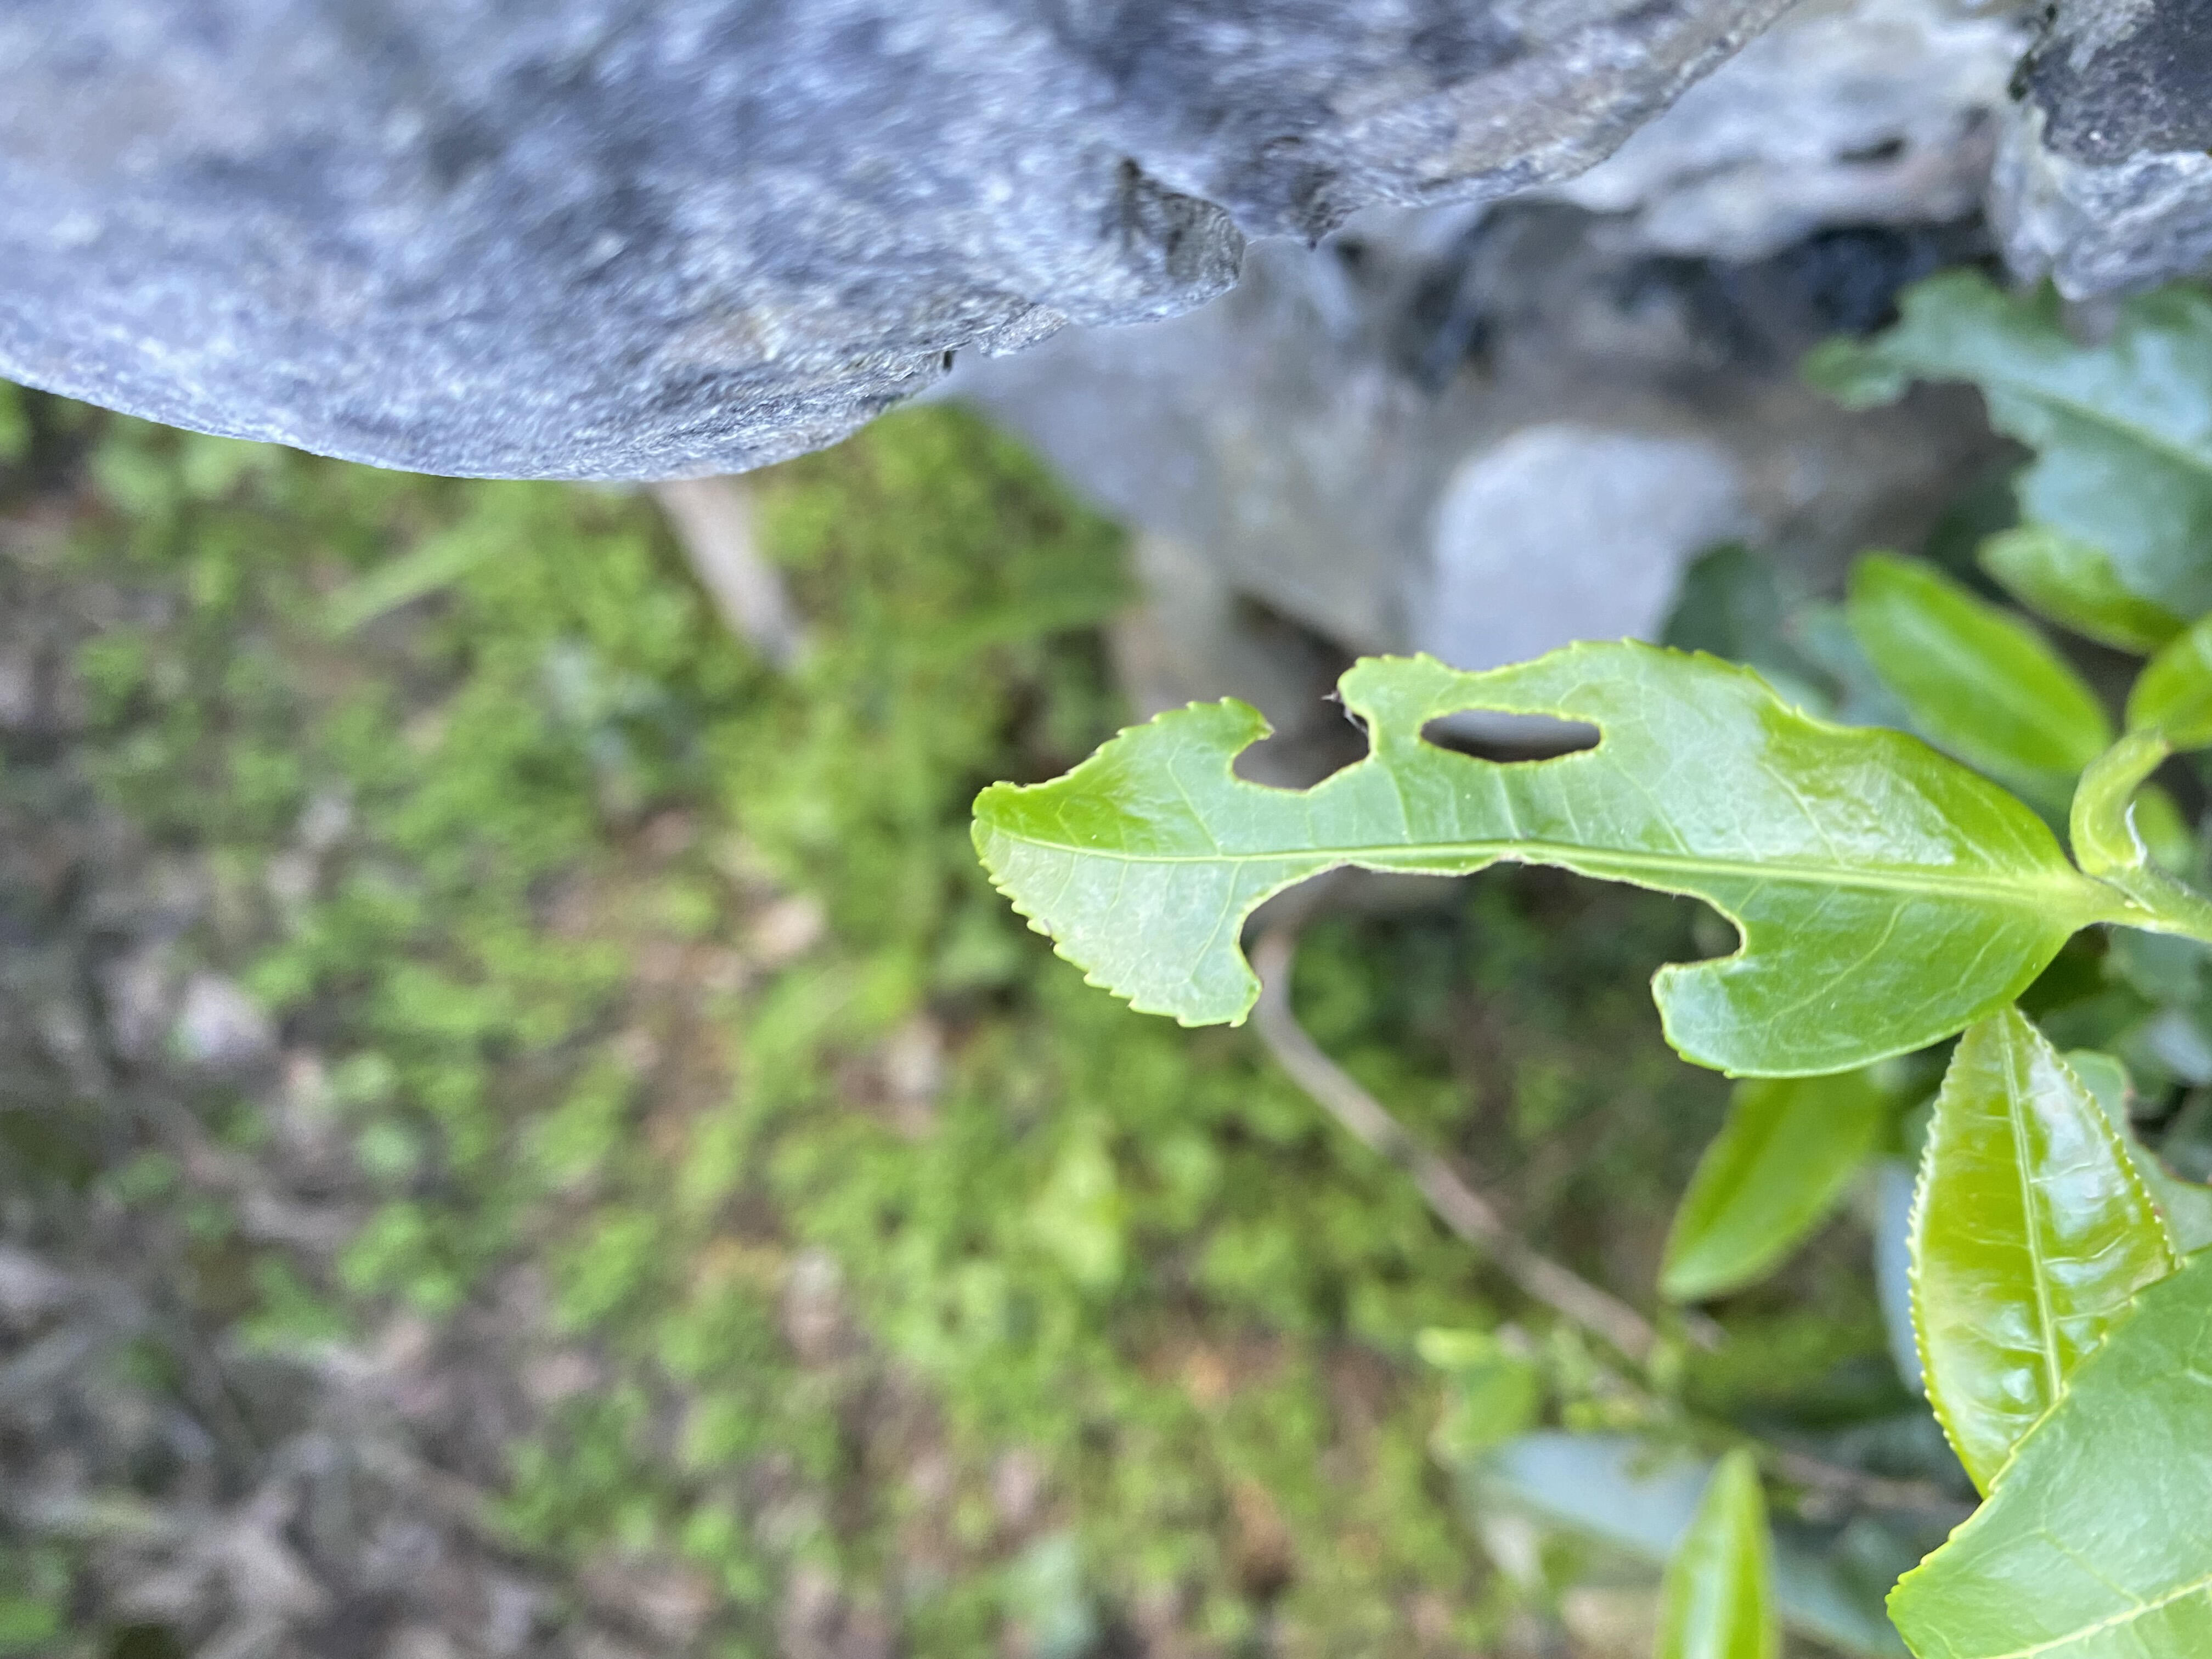chihuo_high: (968, 634, 2081, 1082)
healthy: (1885, 1244, 2212, 1657), (1904, 1009, 2175, 1497)
